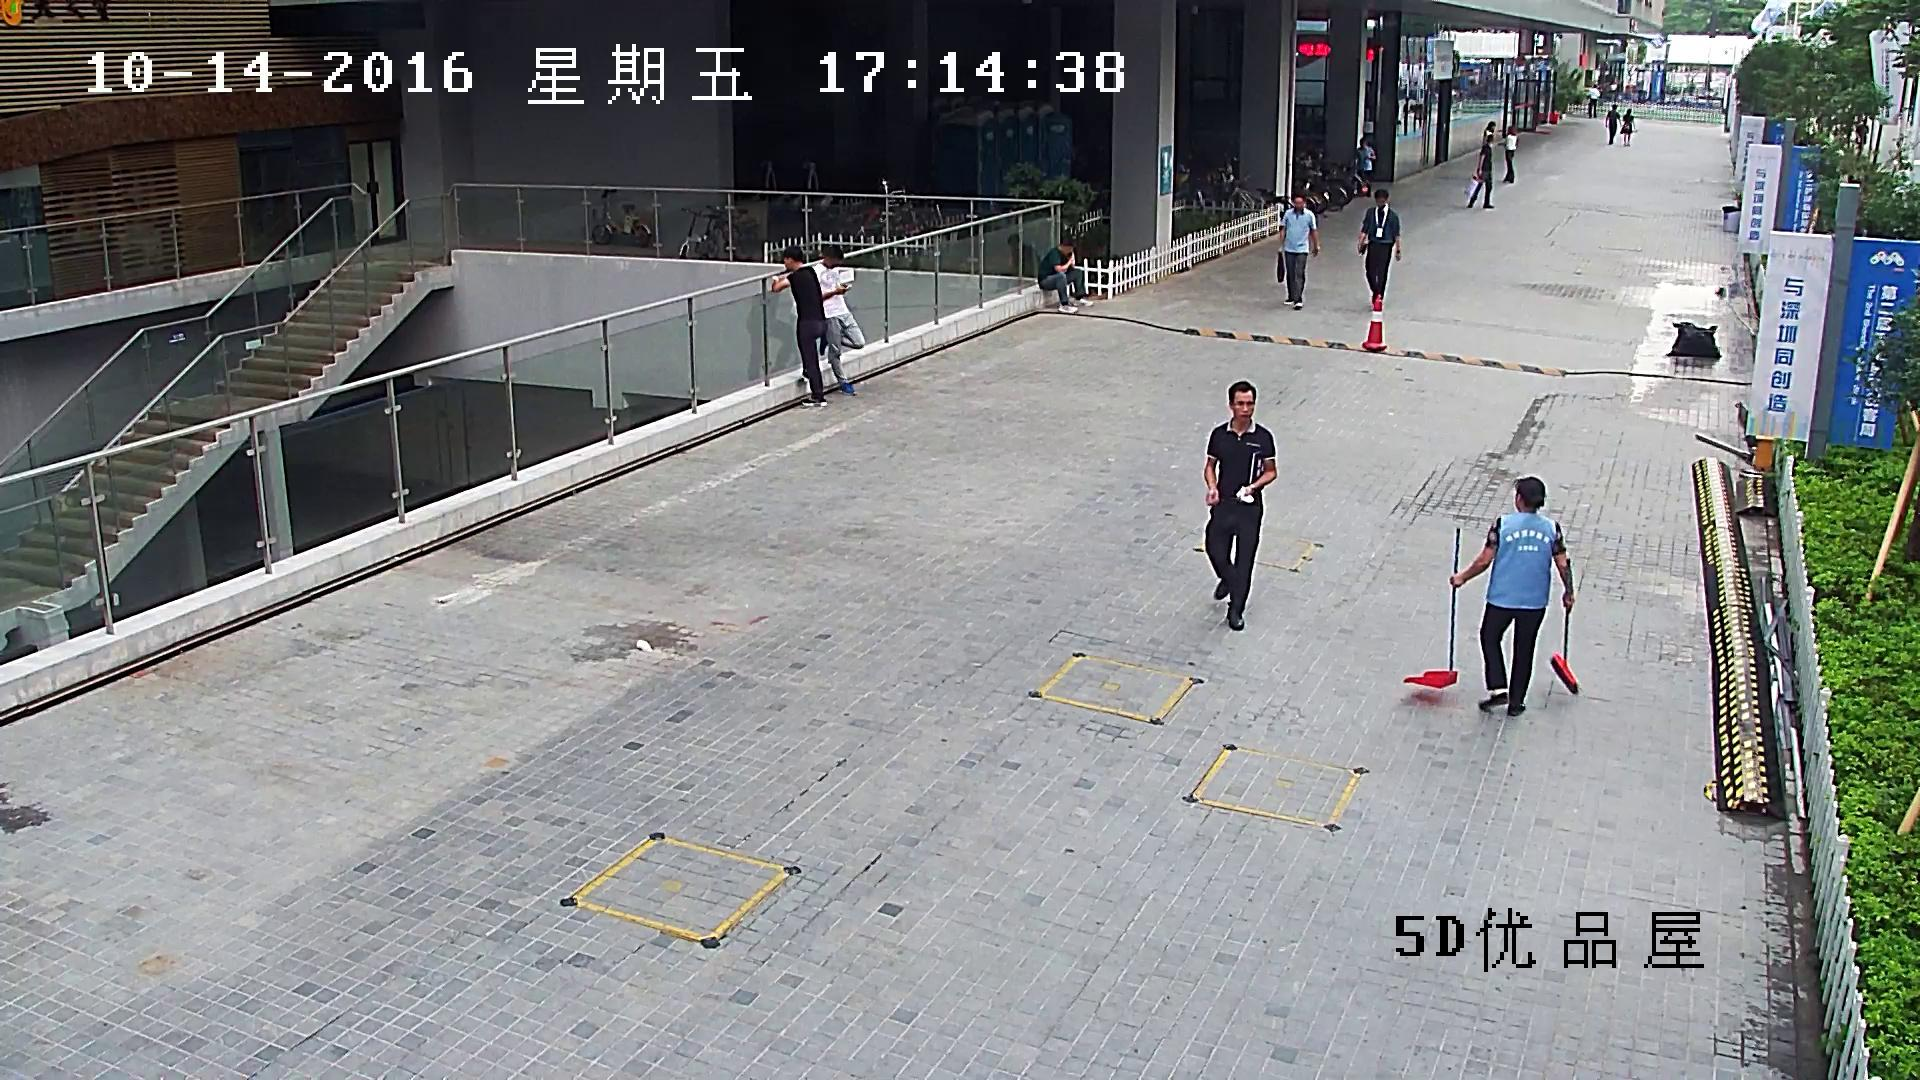person: (1403, 476, 1577, 714), (1450, 476, 1575, 714), (1203, 381, 1277, 630), (771, 246, 826, 407), (814, 246, 865, 396), (1358, 189, 1401, 304), (1277, 194, 1319, 309), (745, 291, 793, 381), (1038, 240, 1093, 313), (1466, 134, 1494, 208), (999, 233, 1034, 290), (1356, 136, 1376, 195), (1502, 126, 1518, 183), (1619, 109, 1635, 146), (1606, 104, 1620, 145), (1588, 85, 1600, 118), (1482, 121, 1496, 146)
